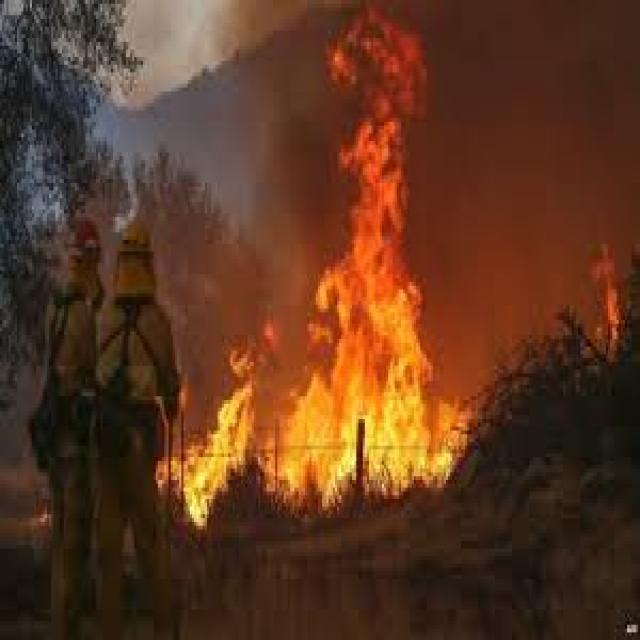Fire: (164, 6, 478, 531)
Smoke: (190, 4, 640, 431)
